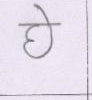e_matra: (34, 4, 54, 23)
